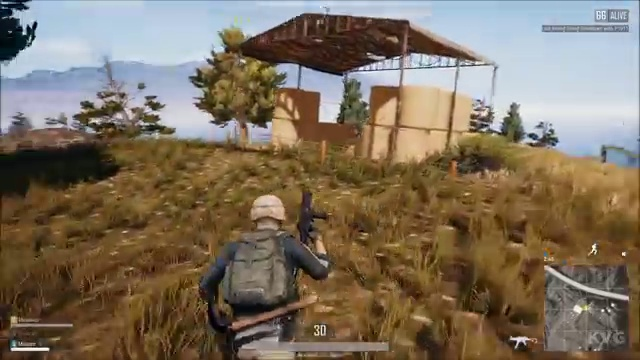Player: (183, 183, 366, 317)
